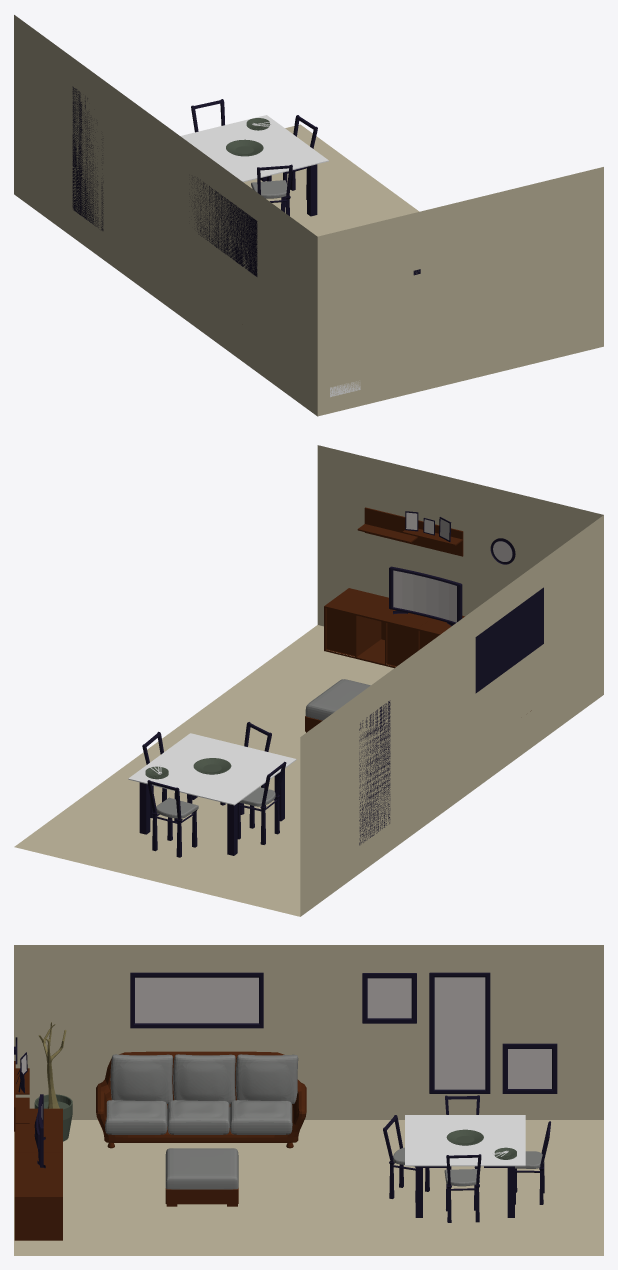
File: room.glb
The picture shows the model from 3 angles, top to bottom: view 1: azimuth 30°, elevation 25°; view 2: azimuth 150°, elevation 25°; view 3: azimuth 270°, elevation 25°; orthographic projection. The views are drawn at different scales.
Visible parts, largest first — view 1: room, table, paint1, paint4, chair3; view 2: room, table, armario2, paint1, tv, paint4, polca, chai1, puff, chair2; view 3: room, sofa.encostar1, paint1, paint4, sofa.t.sit, table, armario2, puff, sofa.frame, paint3, paint3.001, armario1 (+8 smaller).
Boxes of the visible parts, x1,y1,x2,y2 form: room: (14, 15, 603, 416); table: (180, 115, 328, 216); paint1: (189, 177, 257, 276); paint4: (72, 86, 103, 230); chair3: (251, 164, 292, 215); room: (14, 445, 603, 916); table: (128, 733, 296, 855); armario2: (324, 588, 431, 668); paint1: (475, 587, 543, 693); tv: (389, 566, 462, 626); paint4: (359, 700, 390, 845); polca: (357, 507, 463, 556); chai1: (147, 780, 198, 857); puff: (305, 679, 370, 732); chair2: (237, 761, 286, 844); room: (14, 945, 603, 1255); sofa.encostar1: (110, 1054, 298, 1104); paint1: (130, 972, 263, 1028); paint4: (429, 972, 490, 1093); sofa.t.sit: (105, 1100, 292, 1134); table: (405, 1115, 525, 1217); armario2: (14, 1153, 62, 1240); puff: (165, 1148, 238, 1206); sofa.frame: (96, 1051, 306, 1148); paint3: (502, 1043, 557, 1093); paint3.001: (362, 973, 416, 1023); armario1: (14, 1108, 62, 1152).
Size of the model in its own units: 4 by 2.4 by 7.34.
